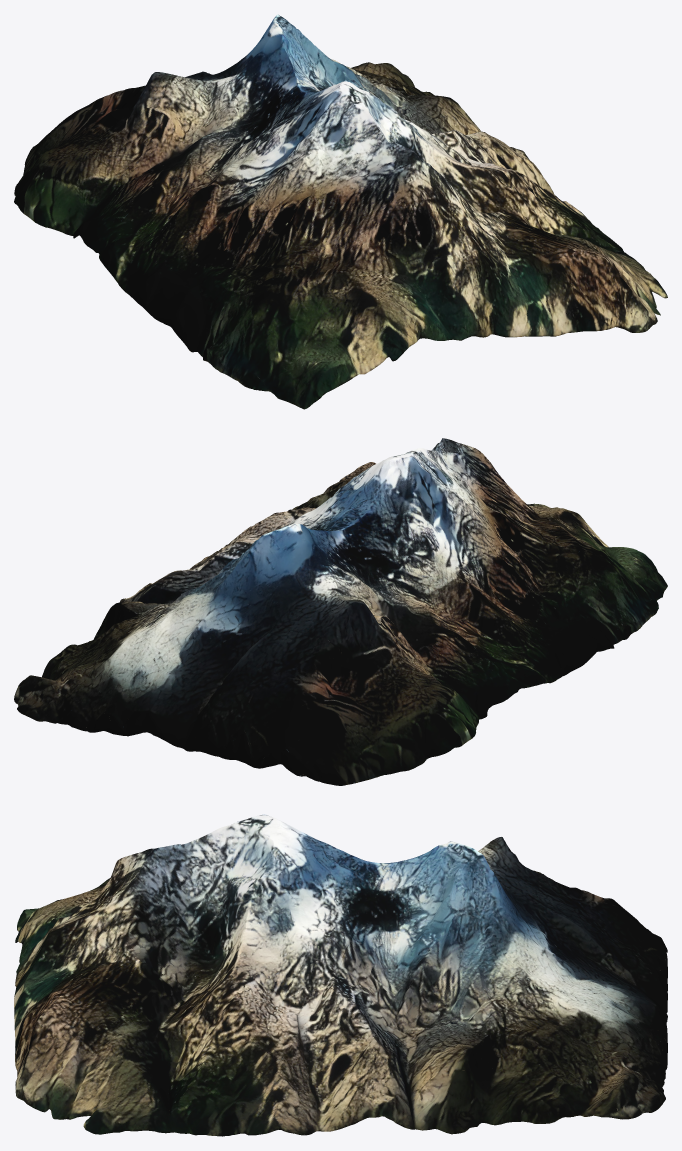
The model's file is model_shaded2.glb.
3 renders of one model, top to bottom at view 1: azimuth 30°, elevation 25°; view 2: azimuth 150°, elevation 25°; view 3: azimuth 270°, elevation 25°, orthographic. The views are drawn at different scales.
Visible parts, largest first — view 1: Mesh; view 2: Mesh; view 3: Mesh.
Boxes of the visible parts, x1=… form: Mesh: x1=14, y1=14, x2=667, y2=409; Mesh: x1=14, y1=438, x2=667, y2=785; Mesh: x1=14, y1=814, x2=667, y2=1136.
Bounding box in the file's own units: 1.47 × 0.6482 × 1.9.
Materials: 1 (1 with a texture image).
